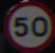Speed limit: (3, 3, 51, 45)
